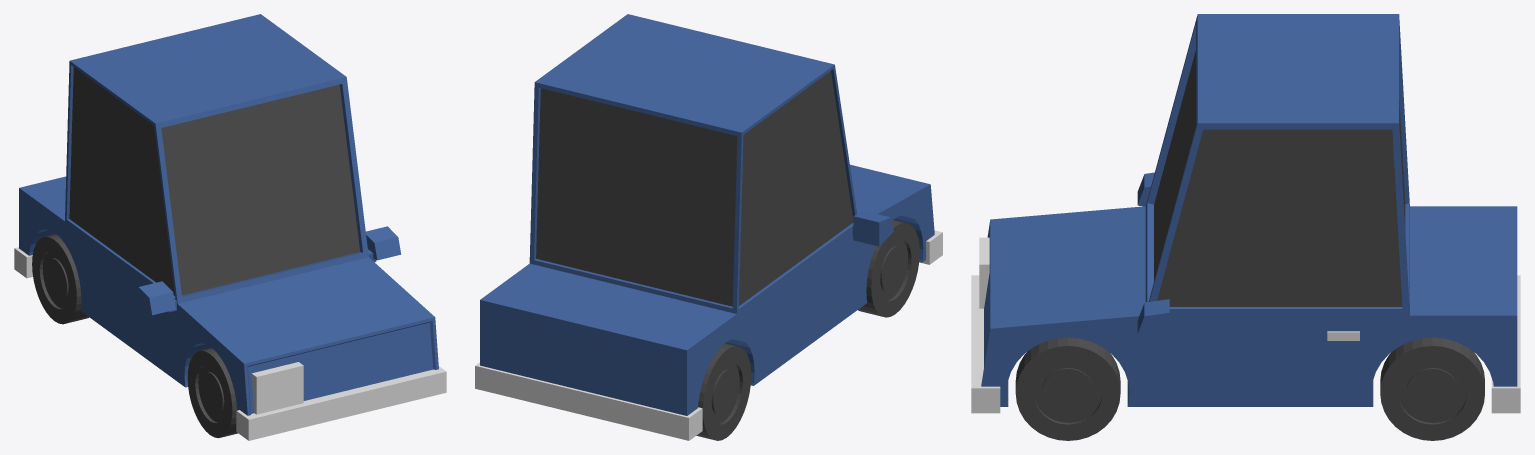
The picture shows the model from 3 angles, left to right: view 1: azimuth 30°, elevation 25°; view 2: azimuth 150°, elevation 25°; view 3: azimuth 270°, elevation 25°; orthographic projection. The views are drawn at different scales.
Visible parts, largest first — view 1: Car Body, Wheel, Cube.001, Cube.005, Cube.003, Cube.002; view 2: Car Body, Wheel, Cube.002, Cube.003, Cube.001; view 3: Car Body, Wheel, Cube.001, Cube.003, Cube.002, Cube.005.
Boxes of the visible parts, box(x1,y1,x2,y2) form: Car Body: box(19, 14, 438, 415); Wheel: box(32, 234, 237, 438); Cube.001: box(236, 366, 446, 440); Cube.005: box(251, 362, 303, 414); Cube.003: box(138, 226, 401, 315); Cube.002: box(14, 247, 32, 278); Car Body: box(480, 14, 934, 415); Wheel: box(696, 220, 919, 440); Cube.002: box(475, 362, 702, 440); Cube.003: box(852, 211, 893, 246); Cube.001: box(919, 230, 942, 264); Car Body: box(981, 14, 1517, 406); Wheel: box(1015, 337, 1484, 440); Cube.001: box(971, 275, 1000, 413); Cube.003: box(1137, 172, 1169, 338); Cube.002: box(1491, 275, 1520, 413); Cube.005: box(979, 237, 989, 308).
Size of what is drawn, in the model's own units: 2.43 by 2.52 by 3.96.
